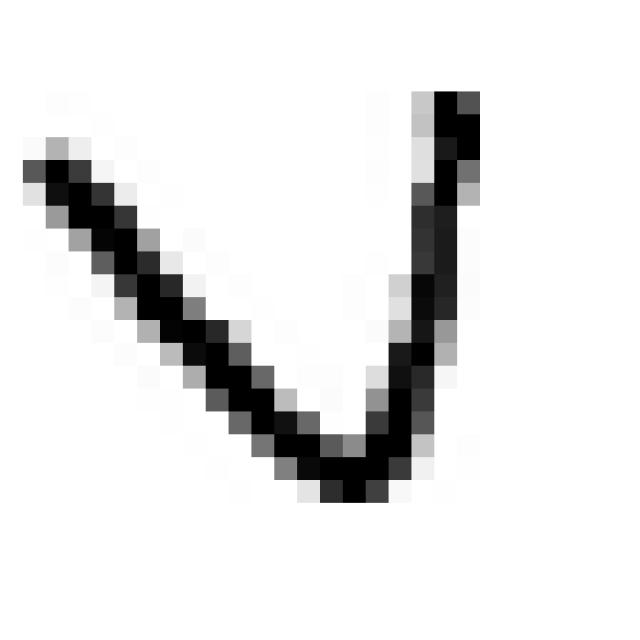7 -seven-: (11, 73, 504, 525)
